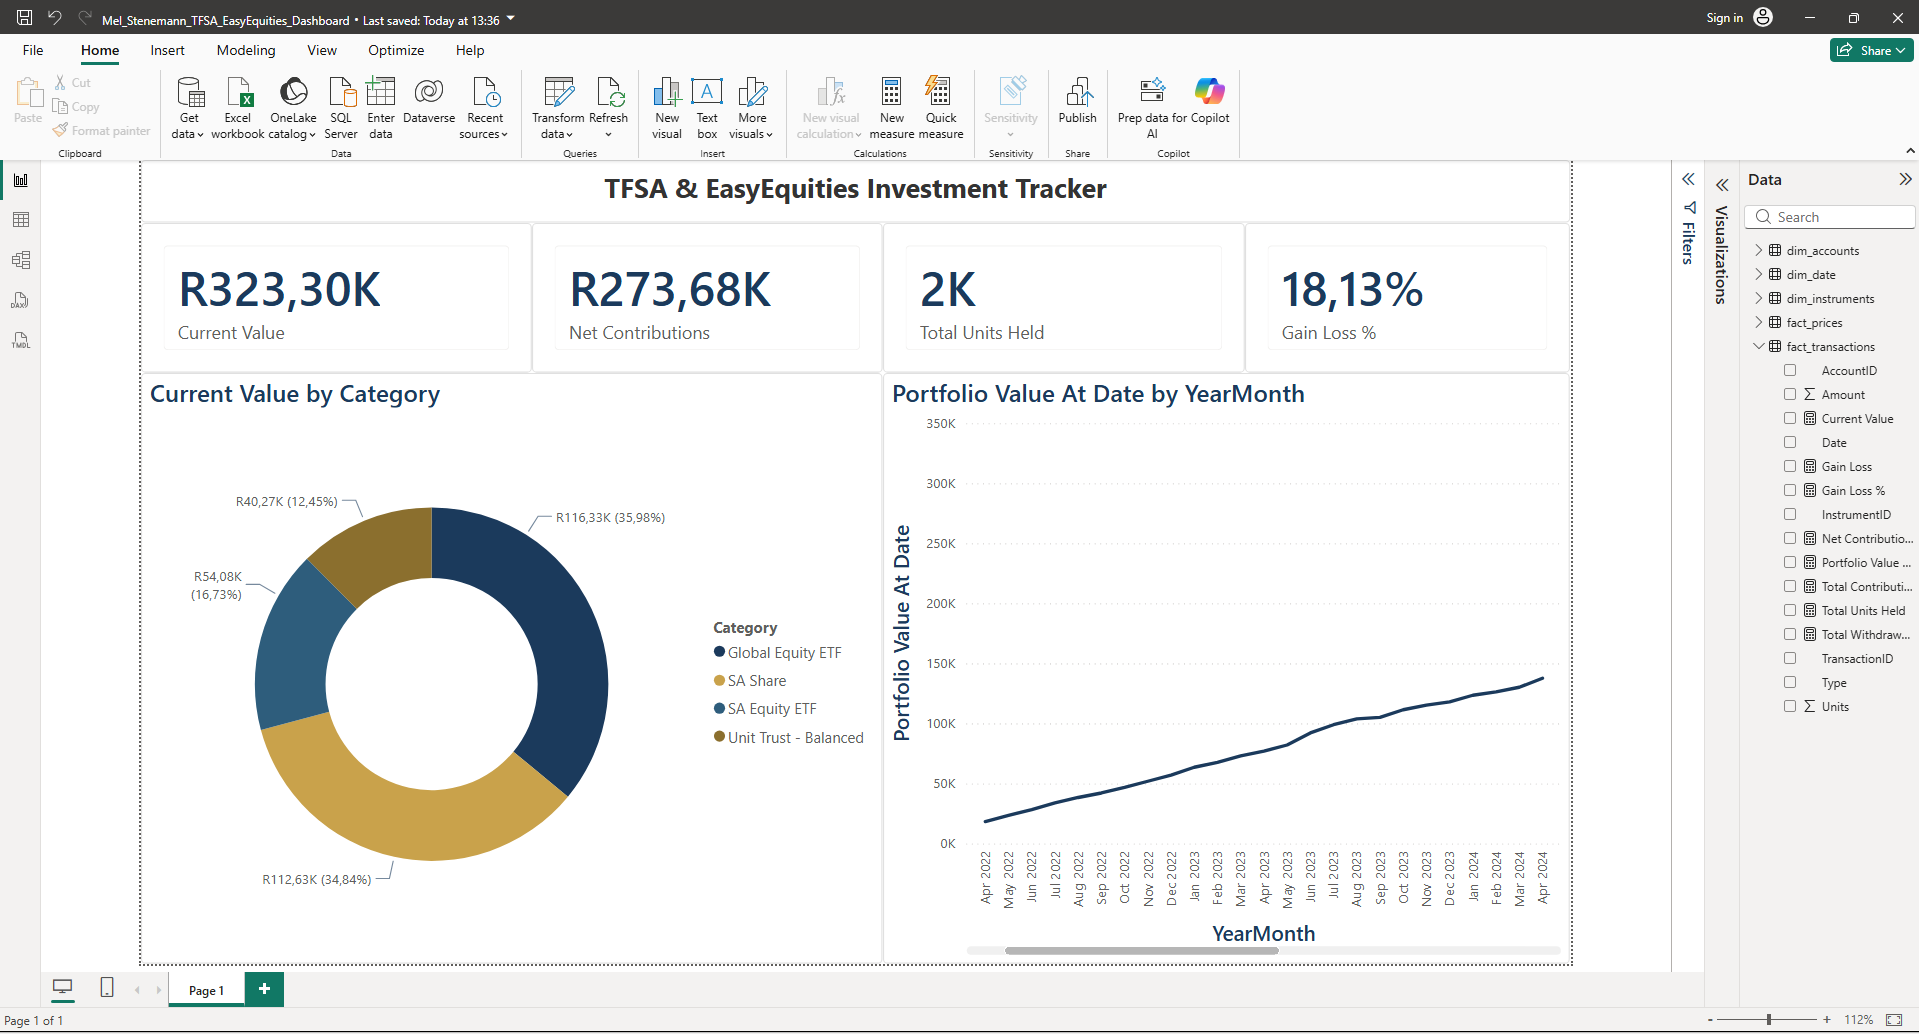

This screenshot's page, from the dashboard's own definition file:
{"tool":"powerbi","page":{"name":"Page 1","canvas":[1280,720],"ordinal":0},"visuals":[{"type":"donutChart","fields":{"Category":["dim_instruments.Category"],"Y":["fact_transactions.Current Value"]},"box":[0,190.7,664.5,529.3],"z":0},{"type":"lineChart","fields":{"Y":["fact_transactions.Portfolio Value At Date"],"Category":["dim_date.YearMonth"]},"box":[664.5,190.7,615.2,529.3],"z":1000},{"type":"cardVisual","fields":{"Data":["fact_transactions.Current Value"]},"box":[0,56.4,350.1,134.3],"z":2000},{"type":"cardVisual","fields":{"Data":["fact_transactions.Net Contributions"]},"box":[350.1,56.4,314.3,134.3],"z":3000},{"type":"cardVisual","fields":{"Data":["fact_transactions.Gain Loss %"]},"box":[988.7,56.4,291,134.3],"z":4000},{"type":"cardVisual","fields":{"Data":["fact_transactions.Total Units Held"]},"box":[664.5,56.4,324.2,134.3],"z":5000},{"type":"textbox","box":[0,0,1279.7,56.4],"z":6000}]}

Visuals, with their boxes on the page's 1280x720 design canvas (x1, y1, x2, y2). These are canvas units, not pixel positions in the 1919x1034 screenshot, which may show the page scaled, cropped or inside an application window:
donutChart - dim_instruments.Category x fact_transactions.Current Value: l=0, t=191, r=664, b=720
lineChart - fact_transactions.Portfolio Value At Date x dim_date.YearMonth: l=664, t=191, r=1280, b=720
cardVisual - fact_transactions.Current Value: l=0, t=56, r=350, b=191
cardVisual - fact_transactions.Net Contributions: l=350, t=56, r=664, b=191
cardVisual - fact_transactions.Gain Loss %: l=989, t=56, r=1280, b=191
cardVisual - fact_transactions.Total Units Held: l=664, t=56, r=989, b=191
textbox: l=0, t=0, r=1280, b=56
